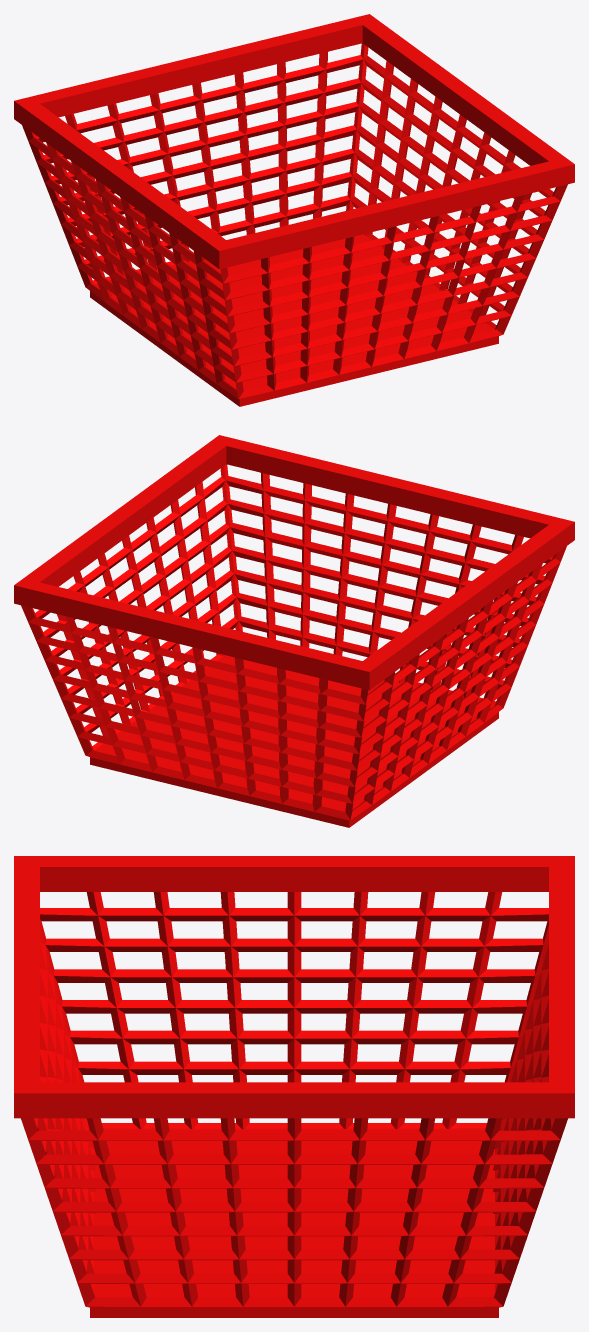
Rendered from soubik1.glb.
3 views of the same model, one above another, from view 1: azimuth 30°, elevation 25°; view 2: azimuth 150°, elevation 25°; view 3: azimuth 270°, elevation 25° (orthographic). The views are drawn at different scales.
Visible parts, largest first — view 1: soubik1; view 2: soubik1; view 3: soubik1.
Boxes of the visible parts, bbox=[...] form: soubik1: bbox=[14, 14, 574, 406]; soubik1: bbox=[14, 435, 574, 827]; soubik1: bbox=[14, 856, 574, 1317].
Size of the model in its own units: 0.1377 by 0.0695 by 0.1377.
